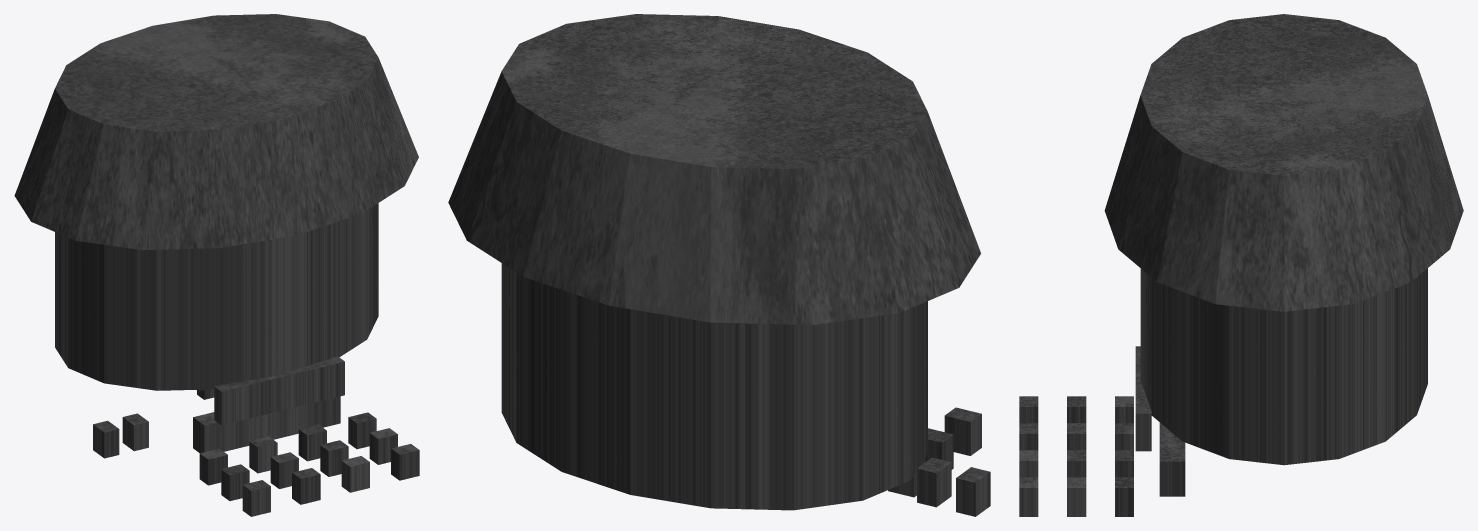
The model's file is gauntlet.glb.
3 renders of one model, left to right at view 1: azimuth 30°, elevation 25°; view 2: azimuth 150°, elevation 25°; view 3: azimuth 270°, elevation 25°, orthographic. The views are drawn at different scales.
Visible parts, largest first — view 1: gauntlet; view 2: gauntlet; view 3: gauntlet.
Boxes of the visible parts, bbox=[...] form: gauntlet: bbox=[14, 14, 419, 516]; gauntlet: bbox=[448, 14, 990, 516]; gauntlet: bbox=[1019, 14, 1463, 516].
Size of the model in its own units: 0.15 by 0.13 by 0.1392.
Materials: 1 (1 with a texture image).
